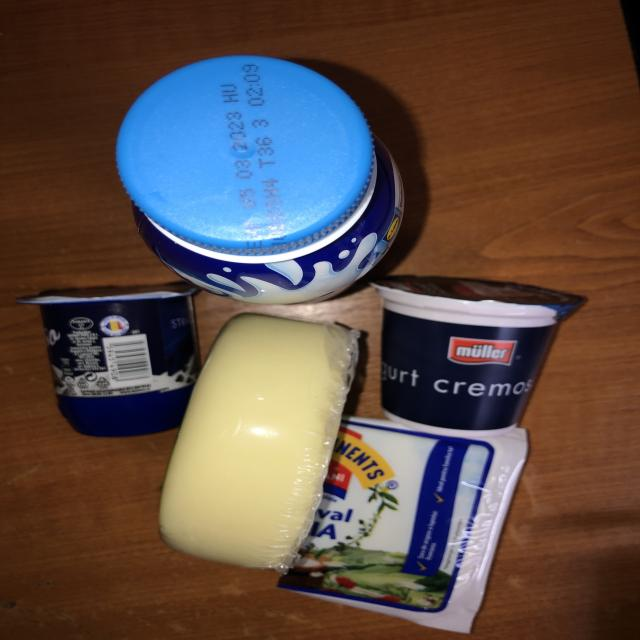cheese: (275, 415, 527, 635), (158, 311, 358, 573)
yogurt: (12, 280, 217, 436), (367, 274, 576, 425)
